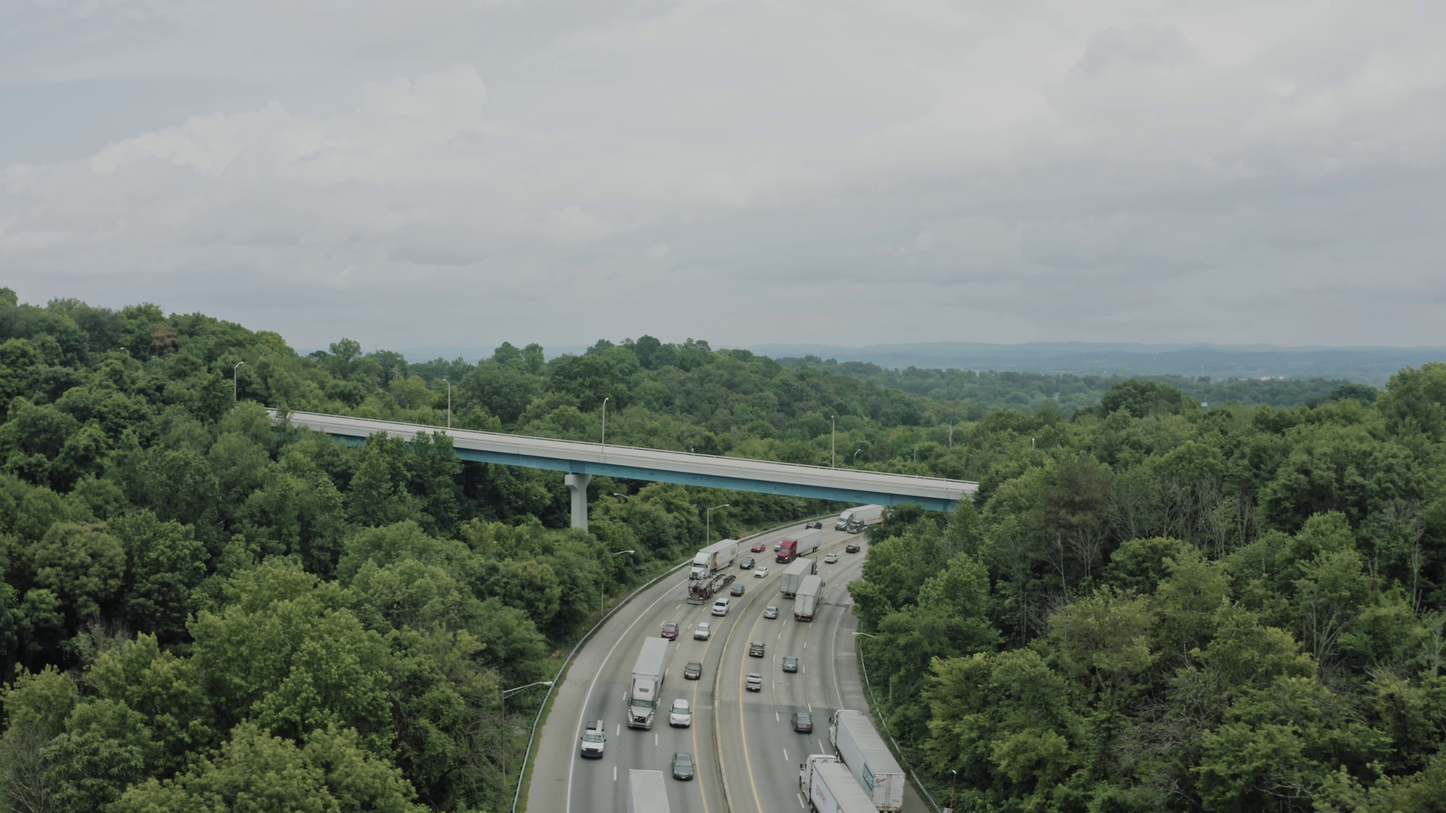Vehicle: (788, 752, 837, 805), (621, 677, 663, 734), (825, 700, 866, 746), (580, 720, 607, 759), (686, 551, 716, 581), (671, 752, 695, 781), (669, 699, 692, 728), (775, 537, 797, 564), (686, 582, 713, 603), (791, 712, 813, 733), (834, 510, 850, 534), (711, 597, 730, 616), (661, 622, 679, 641), (684, 661, 702, 680), (693, 622, 711, 641), (746, 673, 762, 692), (847, 518, 865, 534), (749, 641, 765, 658), (782, 657, 799, 673), (806, 557, 821, 574), (739, 557, 755, 570), (730, 584, 745, 597), (764, 606, 779, 619), (754, 566, 769, 578), (751, 542, 766, 553), (846, 543, 860, 554), (824, 553, 838, 564), (806, 521, 822, 529)
